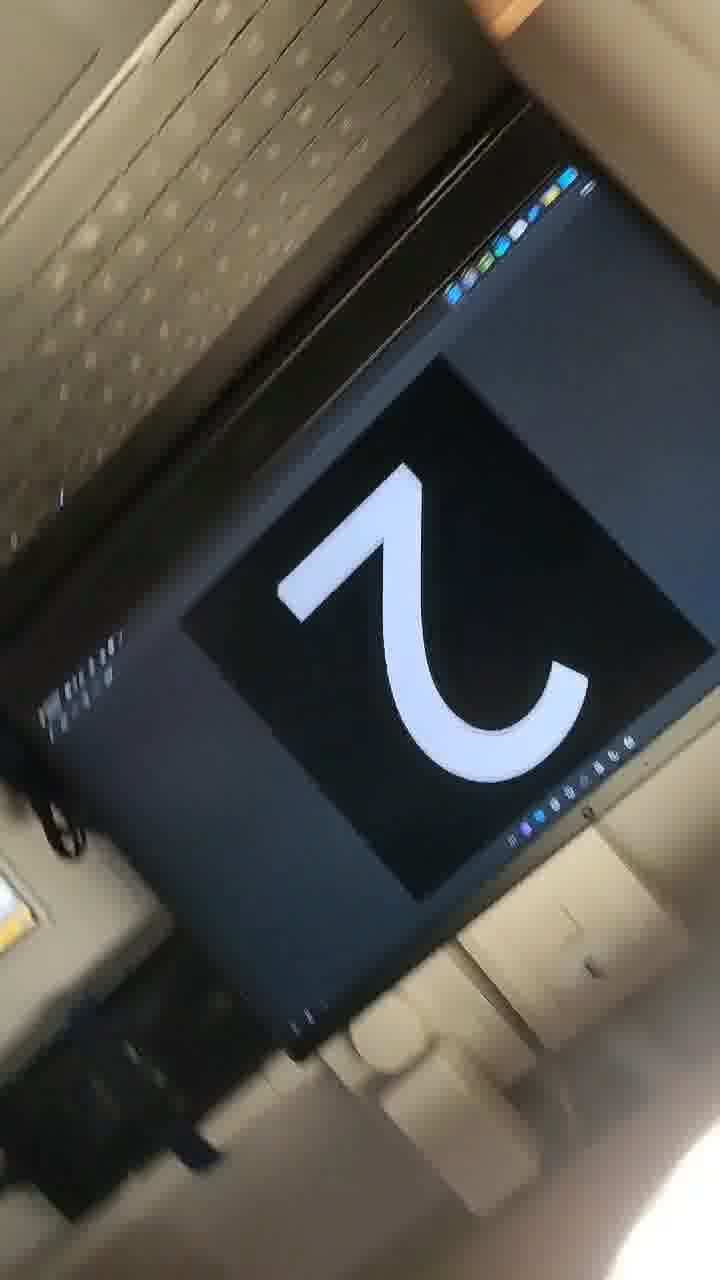two: (263, 434, 575, 844)
